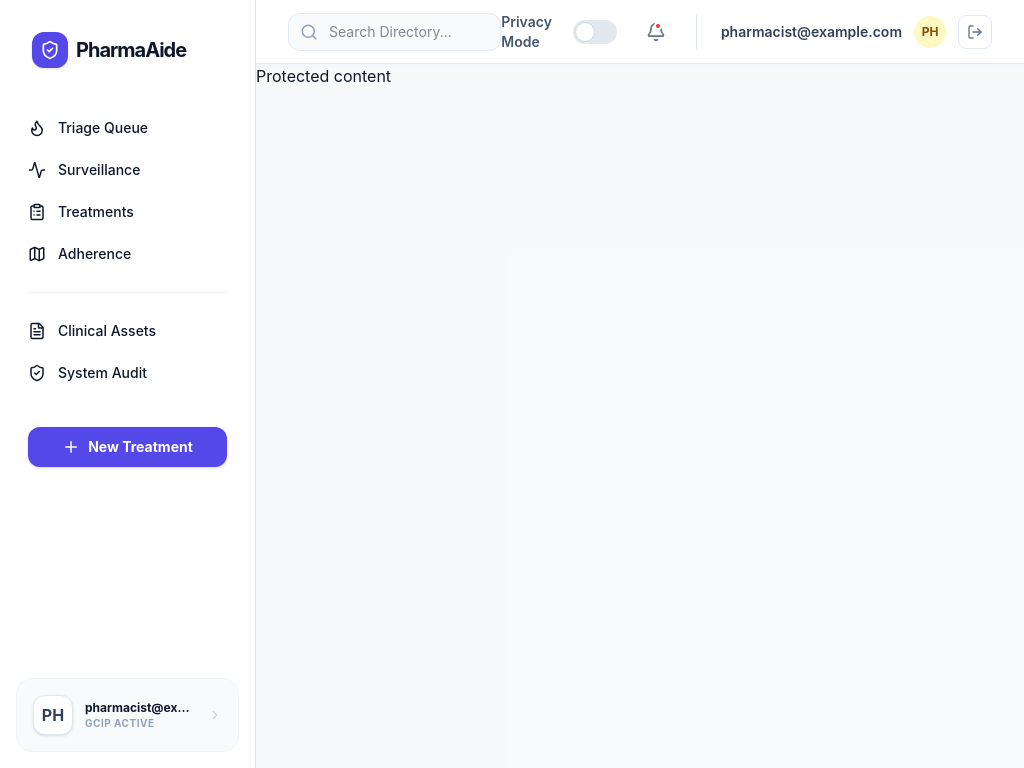
Test case: DashboardApp auth state › returns to the GCIP sign-in gate after sign-out
Check: the text "Protected content" is shown, box [256,66,391,86]
Check: the text "pharmacist@example.com" below "New Treatment" is shown, box [85,700,243,714]
Click the button named "sign out": (975, 32) [958,14,992,48]
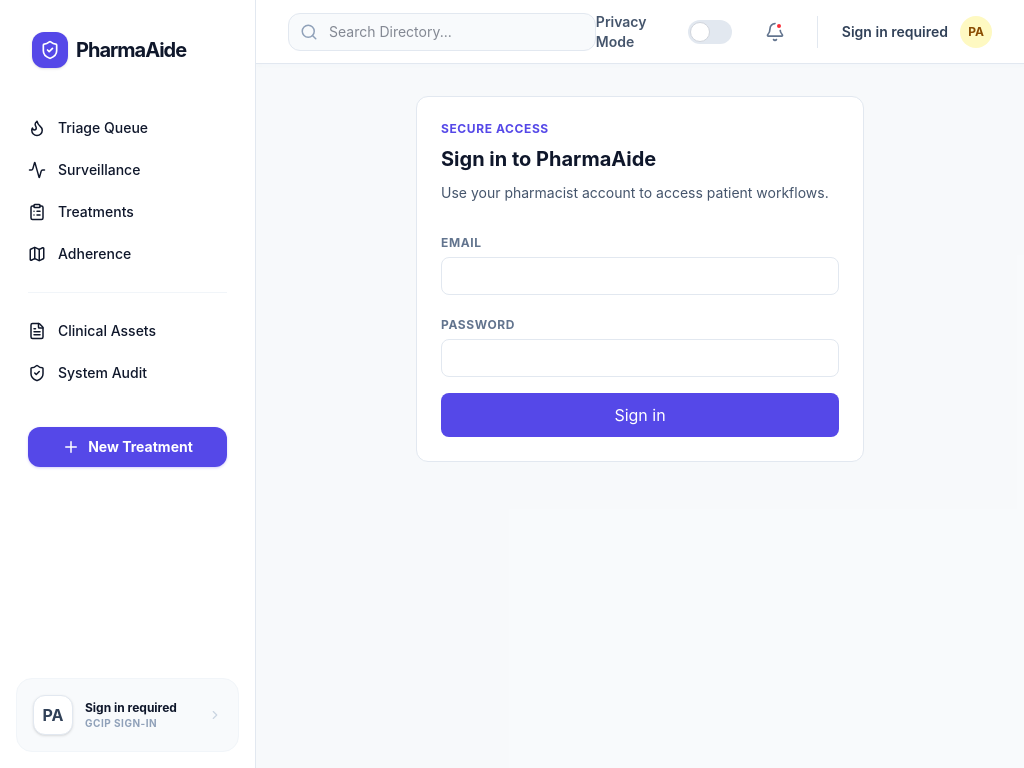
Check: the heading "Sign in to PharmaAide" is shown, box [441,147,656,171]
Check: the text "Protected content" is gone
